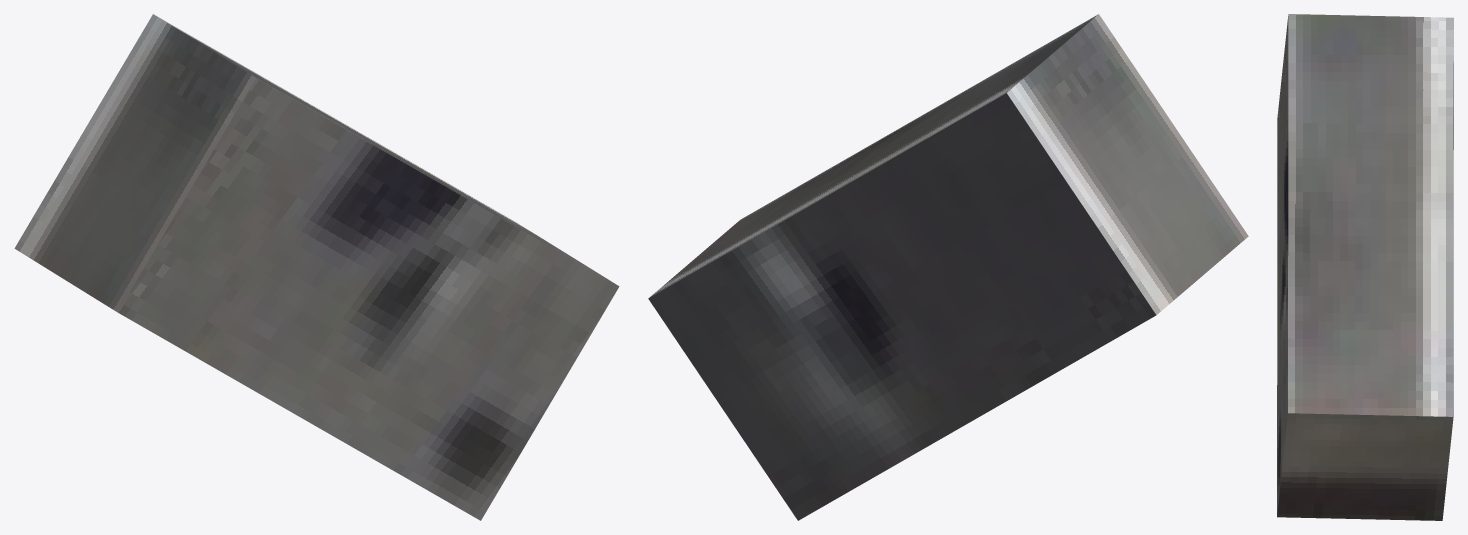
3 views of the same model, side by side, from view 1: azimuth 30°, elevation 25°; view 2: azimuth 150°, elevation 25°; view 3: azimuth 270°, elevation 25° (orthographic). The views are drawn at different scales.
Visible parts, largest first — view 1: BAG_0599100010011191; view 2: BAG_0599100010011191; view 3: BAG_0599100010011191.
Boxes of the visible parts, box(x1,y1,x2,y2) form: BAG_0599100010011191: box(14, 14, 619, 520); BAG_0599100010011191: box(648, 14, 1248, 520); BAG_0599100010011191: box(1277, 14, 1453, 520).
Size of the model in its own units: 5.48 by 5.08 by 1.94.
Materials: 2 (1 with a texture image).
